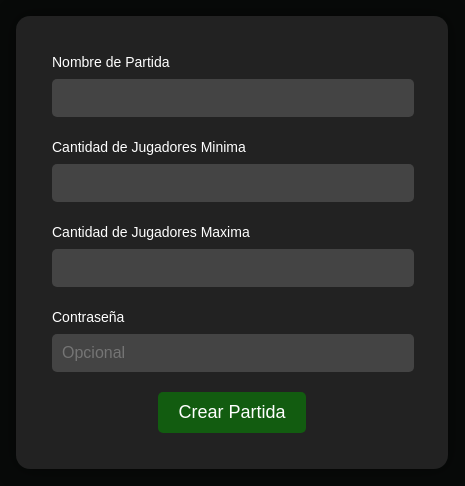
Test case: CreateGame › should show an error when the input is empty
Intentar enviar el formulario sin ingresar datos
Click the button: (232, 412) [158,392,306,433]
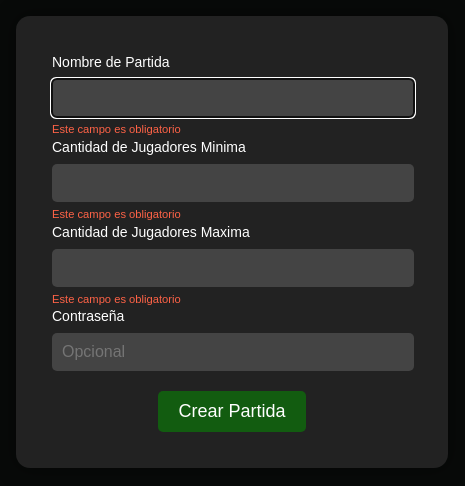
Expected: the text "Este campo es obligatorio" is shown 3 times, [52,123,181,135]; [52,208,181,220]; [52,293,181,305]
